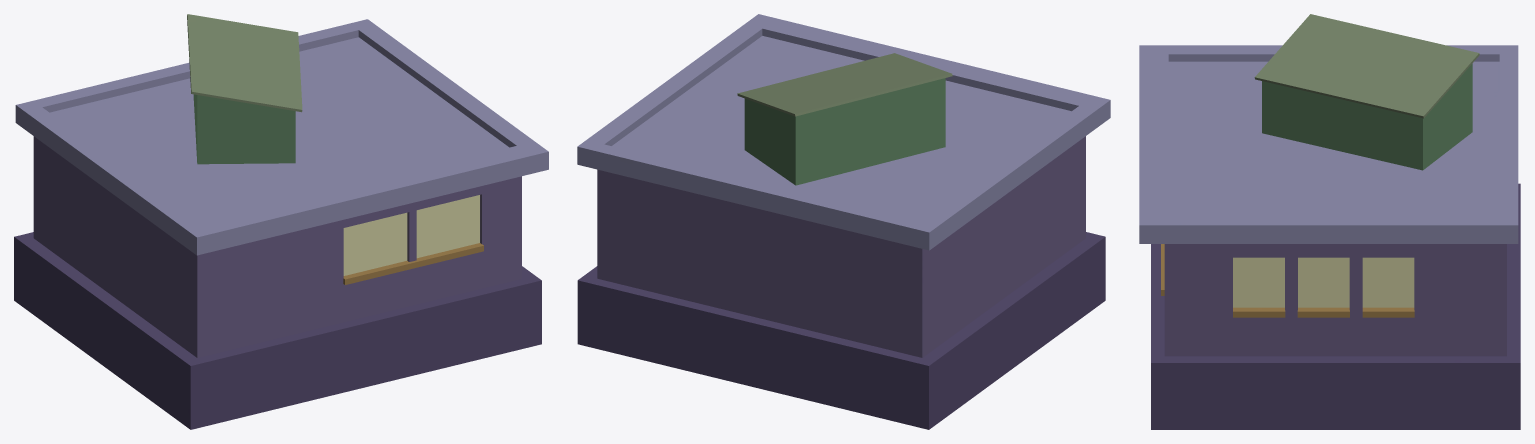
The model's file is SouthWest_House_05.fbx.
3 views of the same model, side by side, from view 1: azimuth 30°, elevation 25°; view 2: azimuth 150°, elevation 25°; view 3: azimuth 270°, elevation 25° (orthographic). The views are drawn at different scales.
Visible parts, largest first — view 1: SouthWest_House_05; view 2: SouthWest_House_05; view 3: SouthWest_House_05.
Part boxes in pixels (bbox=[...]): SouthWest_House_05: bbox=[14, 14, 548, 429]; SouthWest_House_05: bbox=[577, 14, 1110, 429]; SouthWest_House_05: bbox=[1139, 14, 1520, 429].
Bounding box in the file's own units: 24.36 × 17.41 × 21.81.
1 material, 1 textured.
